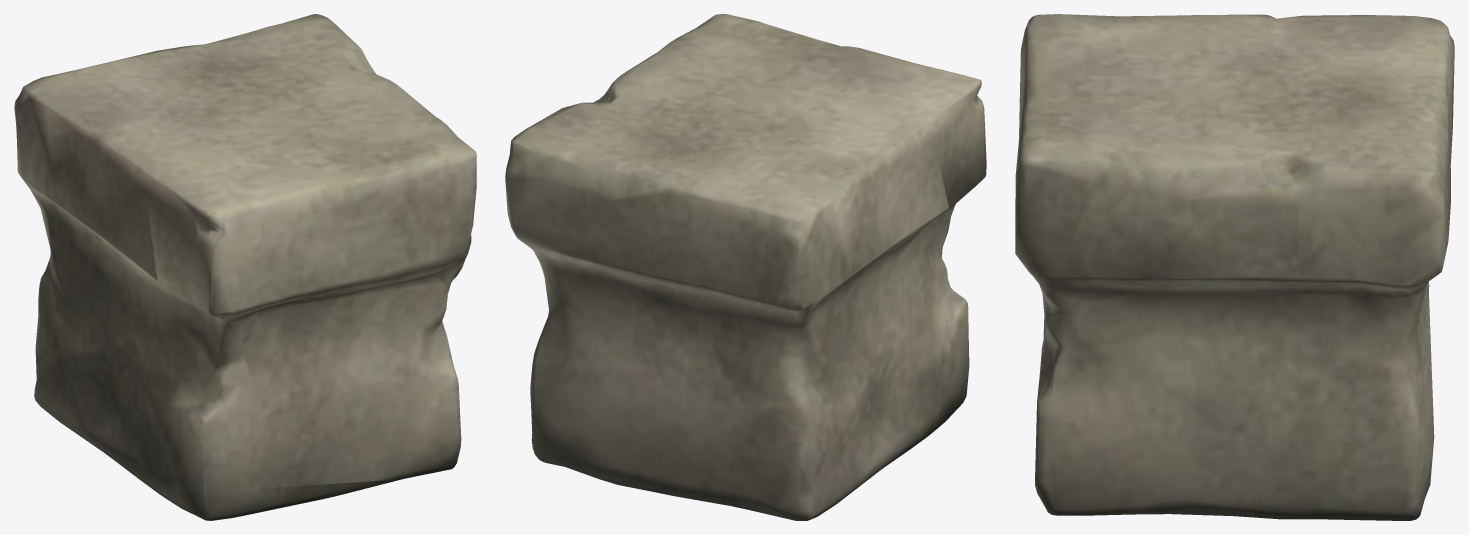
The model's file is ornate-limestone-wall-section-v002.glb.
3 renders of one model, left to right at view 1: azimuth 30°, elevation 25°; view 2: azimuth 150°, elevation 25°; view 3: azimuth 270°, elevation 25°, orthographic. The views are drawn at different scales.
Visible parts, largest first — view 1: ornate-limestone-wall-section; view 2: ornate-limestone-wall-section; view 3: ornate-limestone-wall-section.
Boxes of the visible parts, x1,y1,x2,y2 form: ornate-limestone-wall-section: (14, 14, 476, 520); ornate-limestone-wall-section: (505, 14, 986, 520); ornate-limestone-wall-section: (1015, 14, 1454, 520).
Size of the model in its own units: 0.7869 by 0.809 by 0.868.
1 material, 1 textured.
